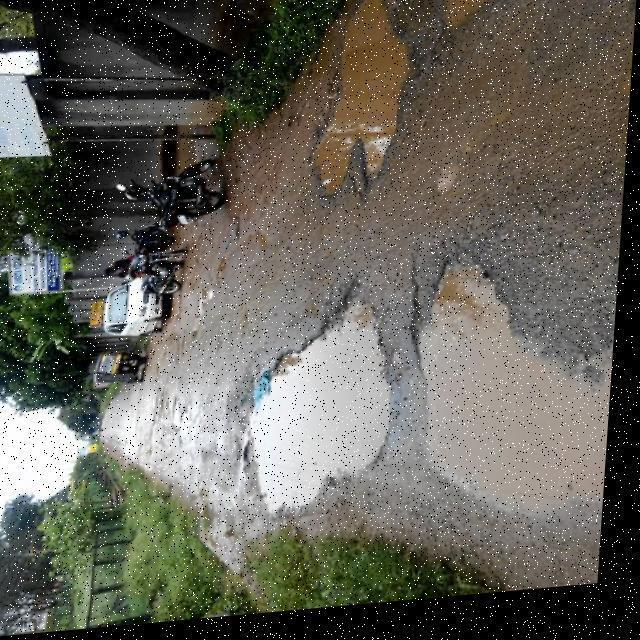Pothole: (406, 242, 613, 517), (242, 283, 400, 516), (304, 0, 421, 200)
